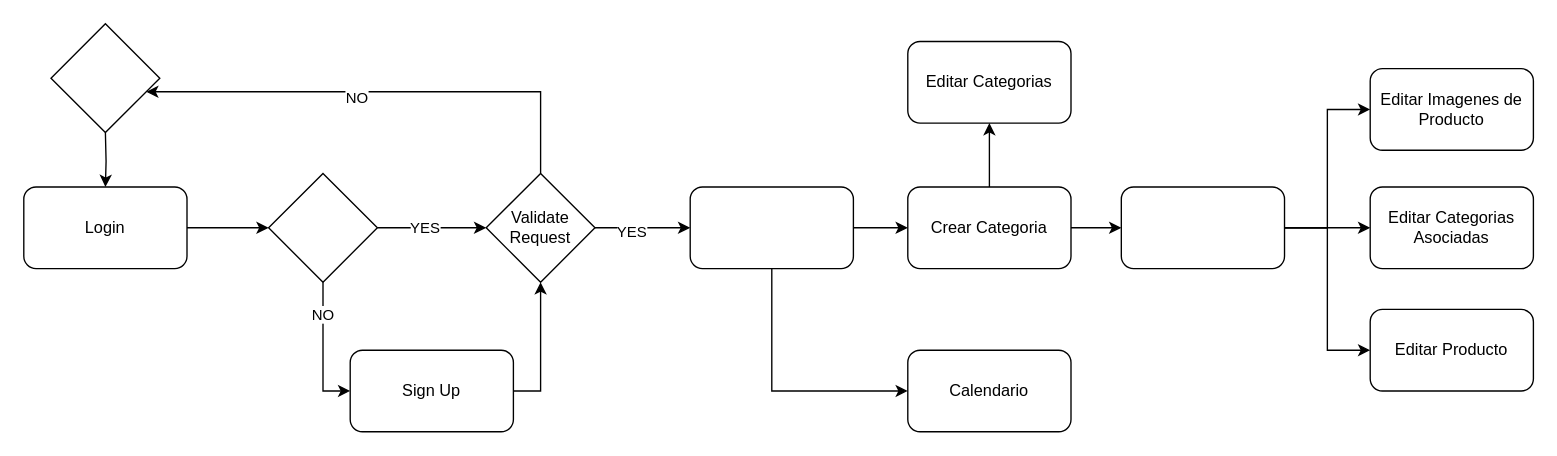
Some shapes in this 1557 by 456 pixel diagram are drawn without their labels. Each missing label, with the centre of its shape:
Catalog: (x=771, y=227)
Crear Producto: (x=1202, y=227)
Has an account?: (x=322, y=227)
Request Error: (x=105, y=77)
